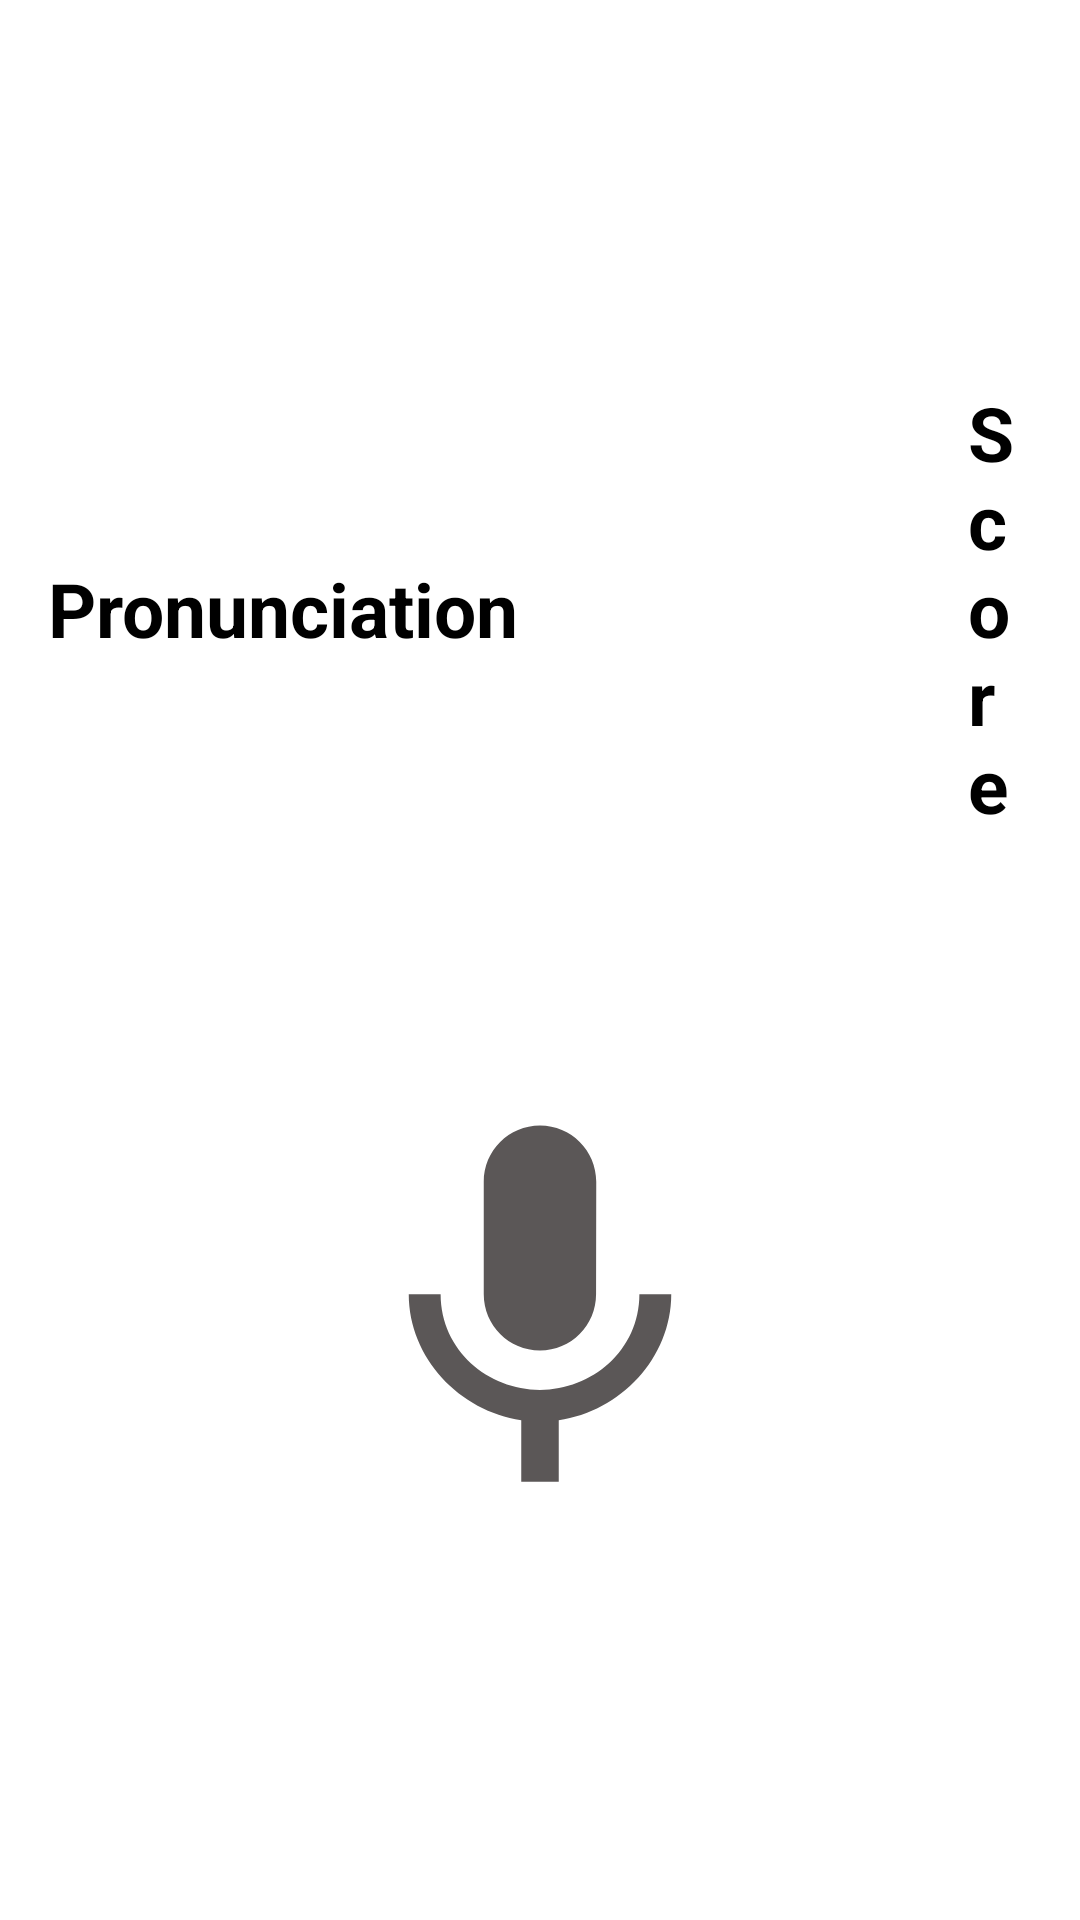

Icons on this 1080x1920 Android screen, each with the point to tap as (x=x, y=y):
mic: (x=540, y=1303)
